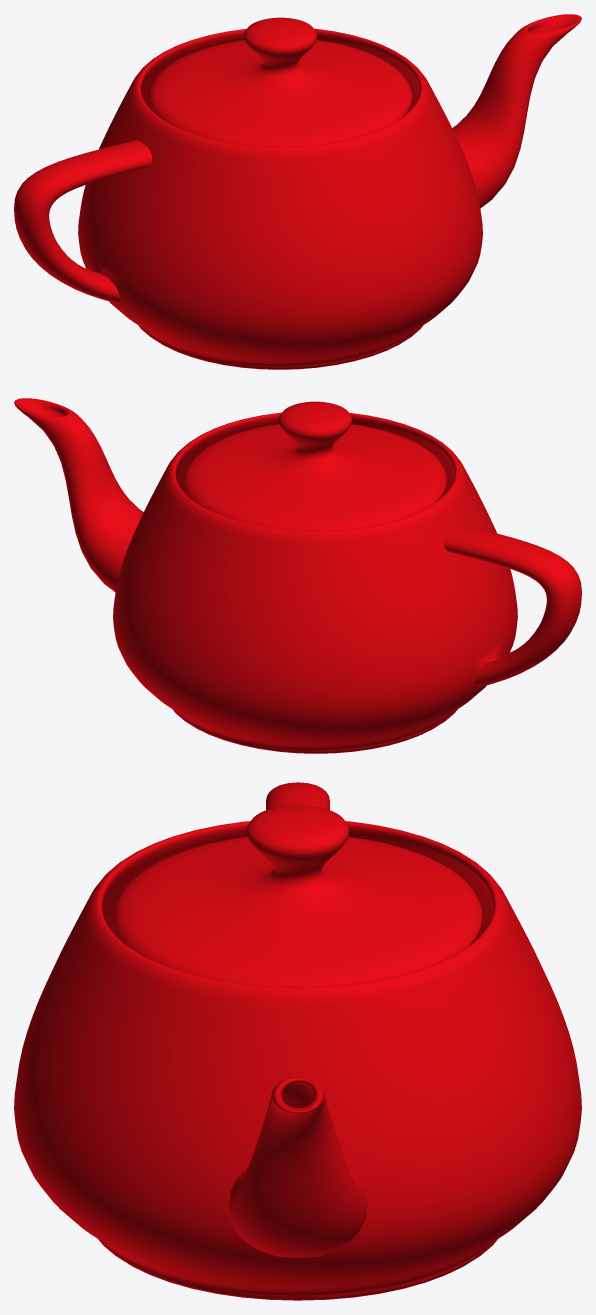
The model's file is teapot.glb.
3 views of the same model, one above another, from view 1: azimuth 30°, elevation 25°; view 2: azimuth 150°, elevation 25°; view 3: azimuth 270°, elevation 25° (orthographic). The views are drawn at different scales.
Visible parts, largest first — view 1: Teapot; view 2: Teapot; view 3: Teapot.
Part boxes in pixels (x1,y1,x2,y2): Teapot: (14,14,581,369); Teapot: (14,398,581,753); Teapot: (14,782,581,1300).
Size of the model in its own units: 64.34 by 31.5 by 40.
